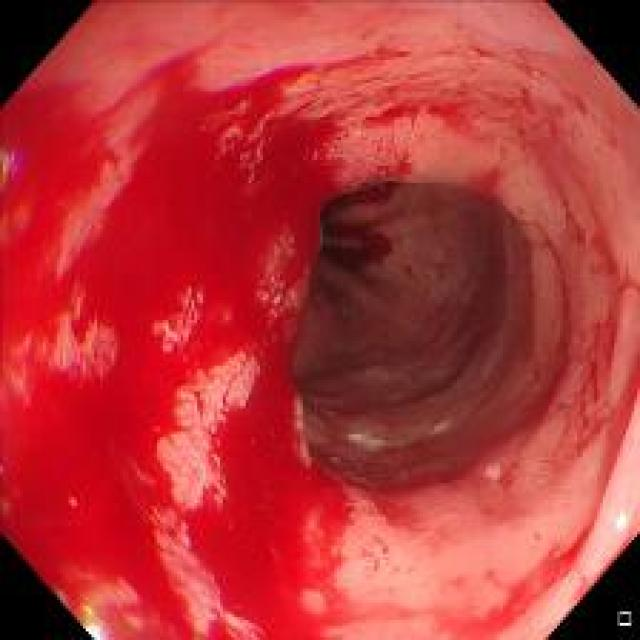blood: (8, 45, 360, 634), (444, 525, 600, 630), (375, 78, 546, 141), (561, 276, 619, 456), (310, 179, 394, 284)
color misalignment: (0, 136, 29, 198), (78, 599, 101, 628)
